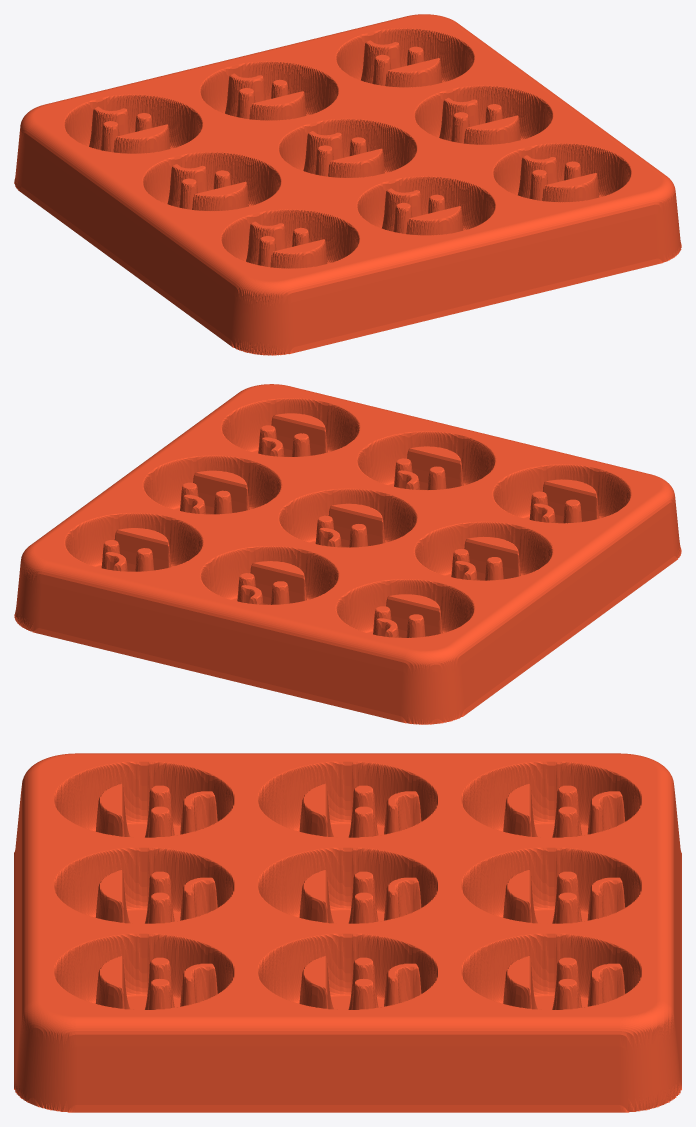
The model's file is mold.glb.
3 views of the same model, one above another, from view 1: azimuth 30°, elevation 25°; view 2: azimuth 150°, elevation 25°; view 3: azimuth 270°, elevation 25° (orthographic). The views are drawn at different scales.
Parts seen in each view (by area): view 1: geometry_0; view 2: geometry_0; view 3: geometry_0.
Part boxes in pixels (x1=…): geometry_0: x1=14, y1=14, x2=681, y2=355; geometry_0: x1=14, y1=384, x2=681, y2=724; geometry_0: x1=14, y1=753, x2=681, y2=1112.
Size of the model in its own units: 0.0964 by 0.0136 by 0.0964.
